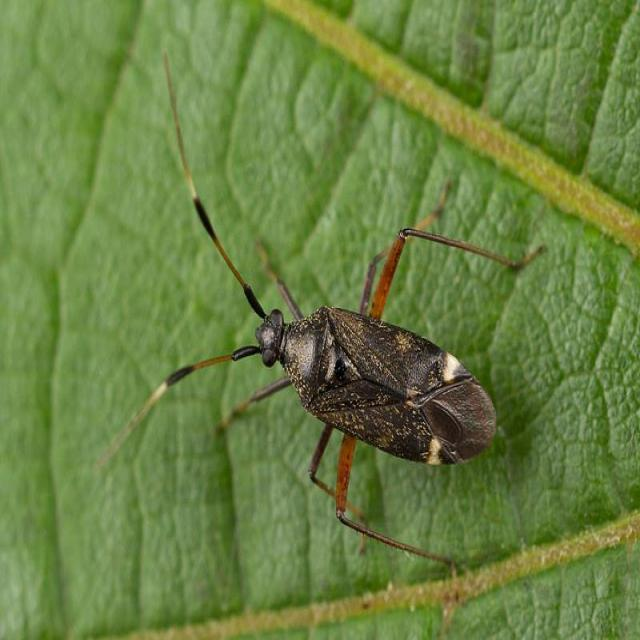Miridae-Adult-: (145, 86, 547, 575)
